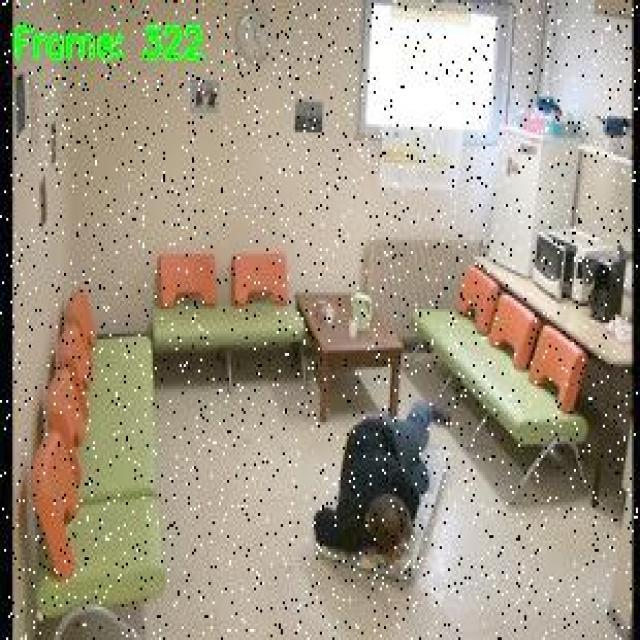fall: (320, 395, 458, 571)
